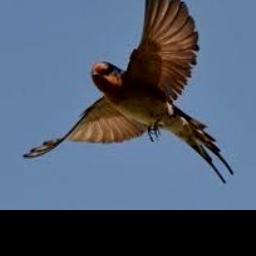Swallow: (21, 0, 233, 185)
